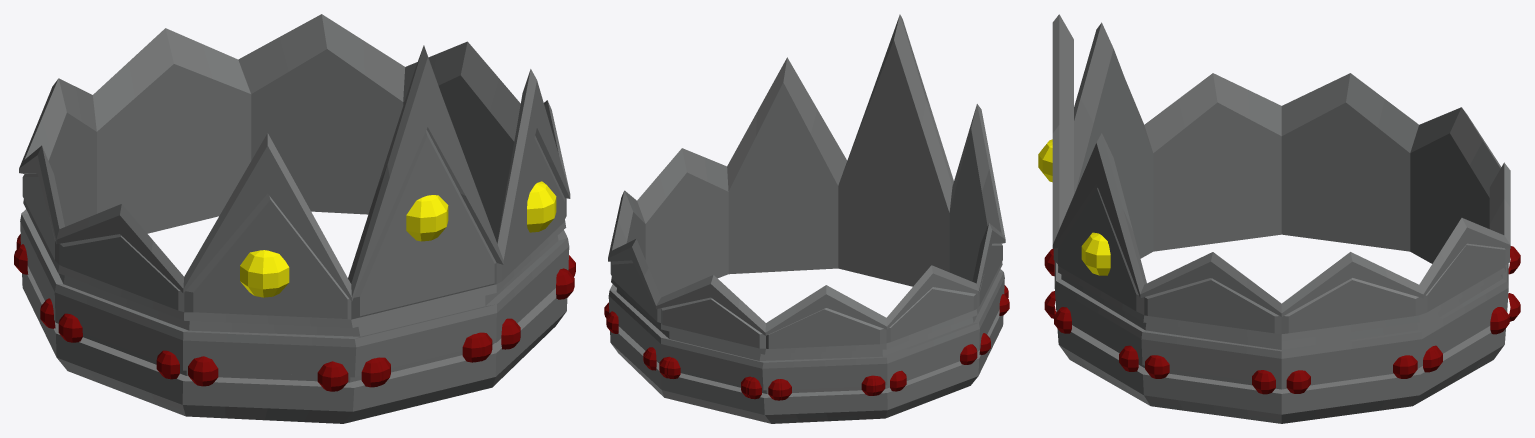
File: Low Poly Crown.fbx
3 renders of one model, left to right at view 1: azimuth 30°, elevation 25°; view 2: azimuth 150°, elevation 25°; view 3: azimuth 270°, elevation 25°, orthographic. The views are drawn at different scales.
Parts seen in each view (by area): view 1: Crown; view 2: Crown; view 3: Crown.
Boxes of the visible parts, x1,y1,x2,y2 form: Crown: [14, 14, 575, 423]; Crown: [604, 14, 1009, 423]; Crown: [1038, 14, 1520, 423].
Size of the model in its own units: 207 by 148 by 206.
